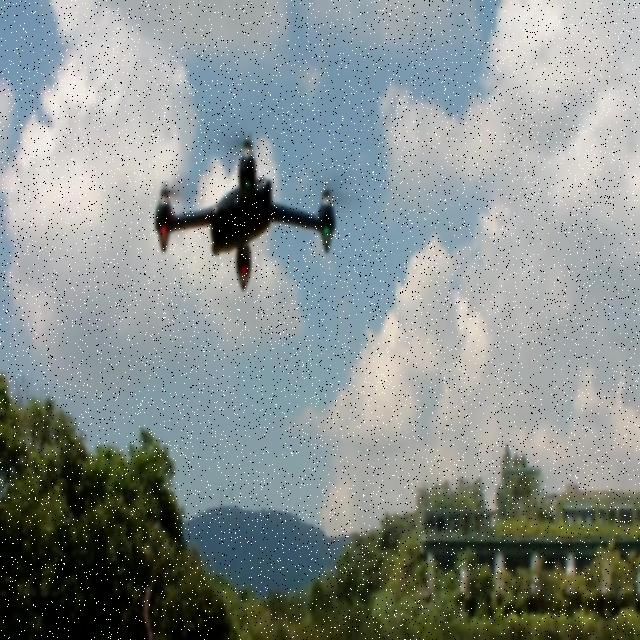UAV: (154, 129, 338, 293)
